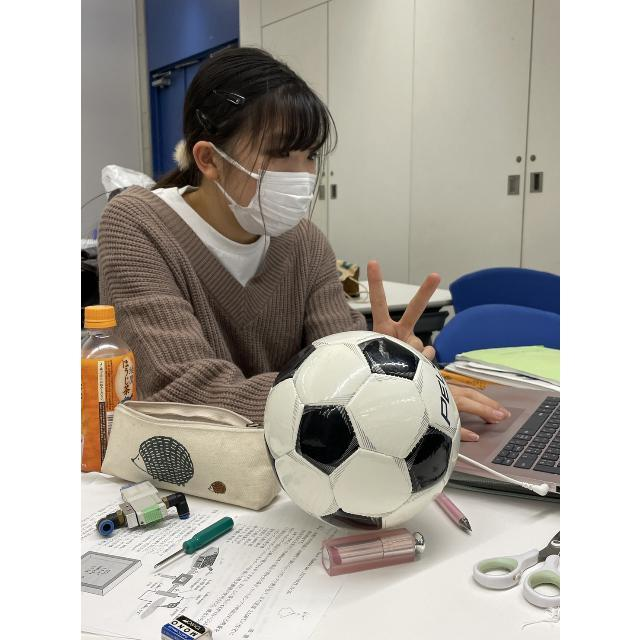ball: (266, 331, 462, 531)
